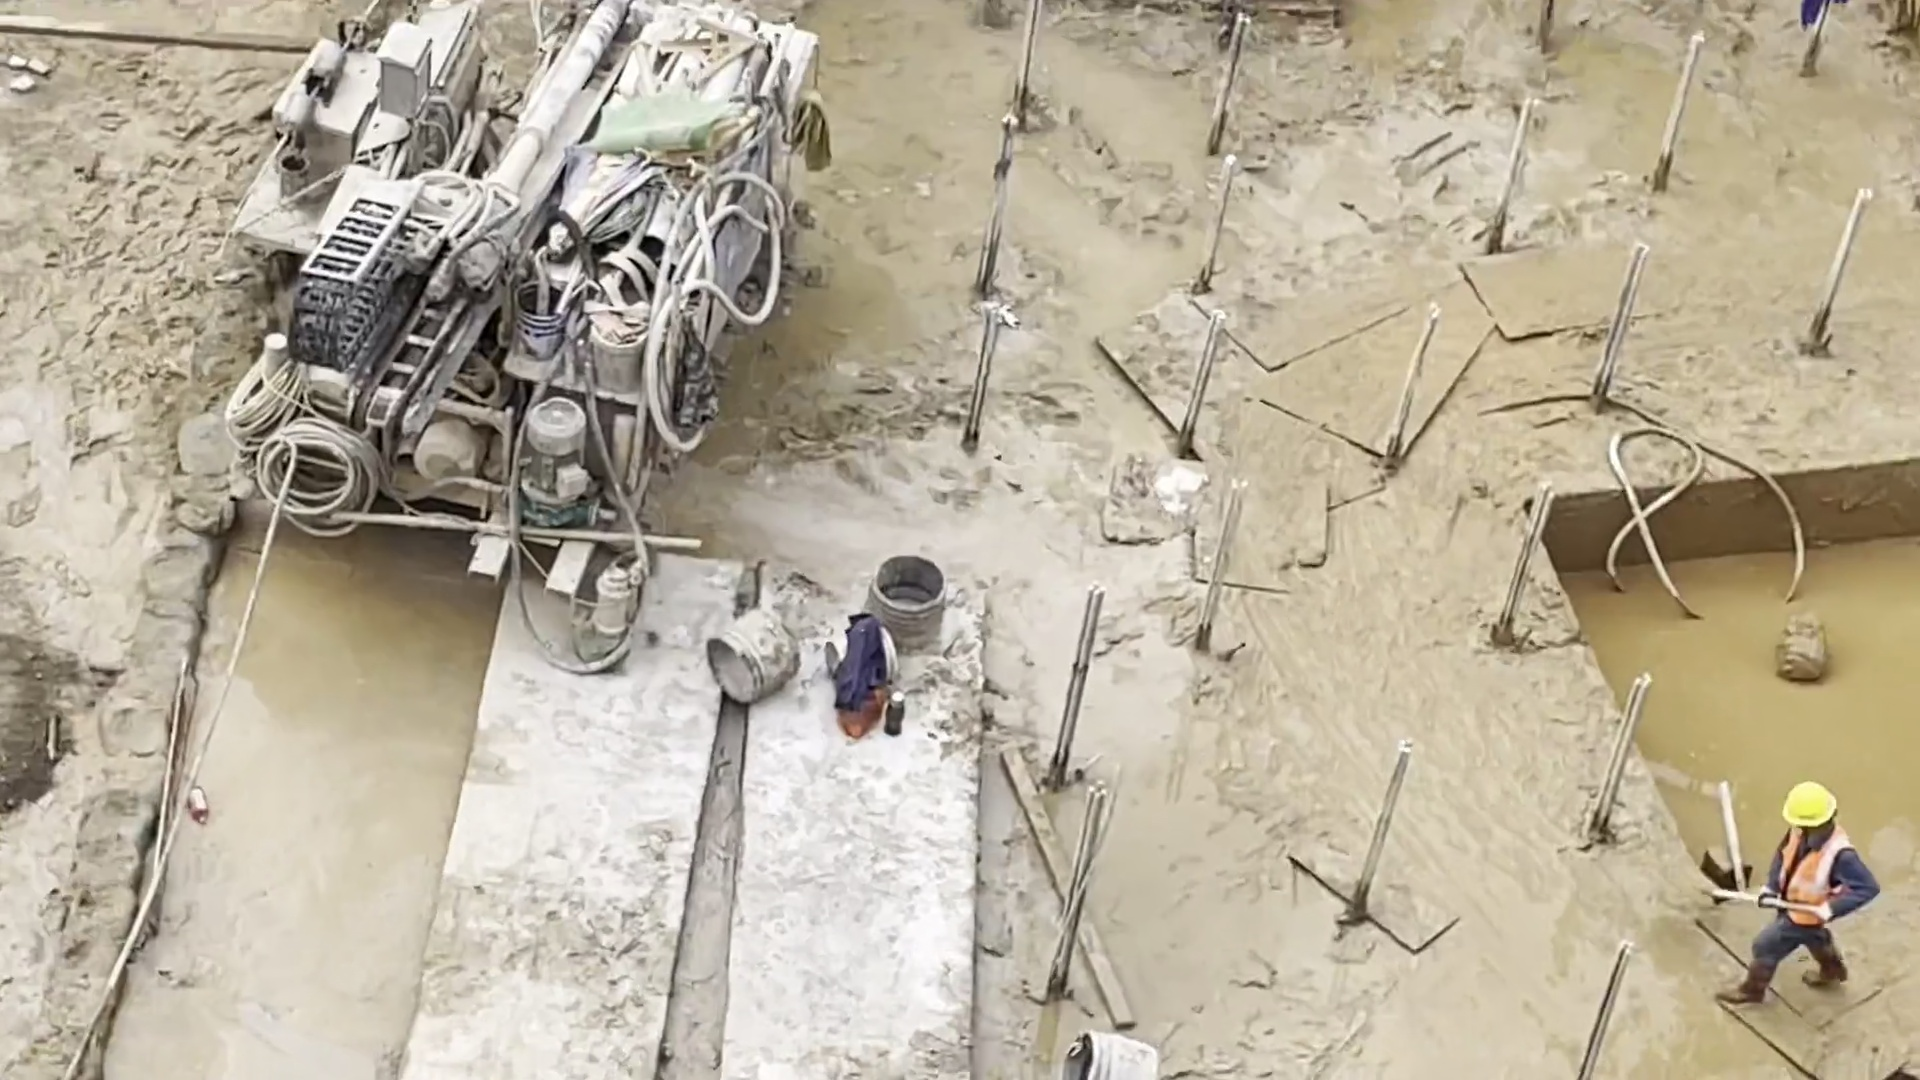helmet: (1781, 780, 1838, 829)
person: (1720, 774, 1880, 1023)
vest: (1762, 826, 1858, 923)
